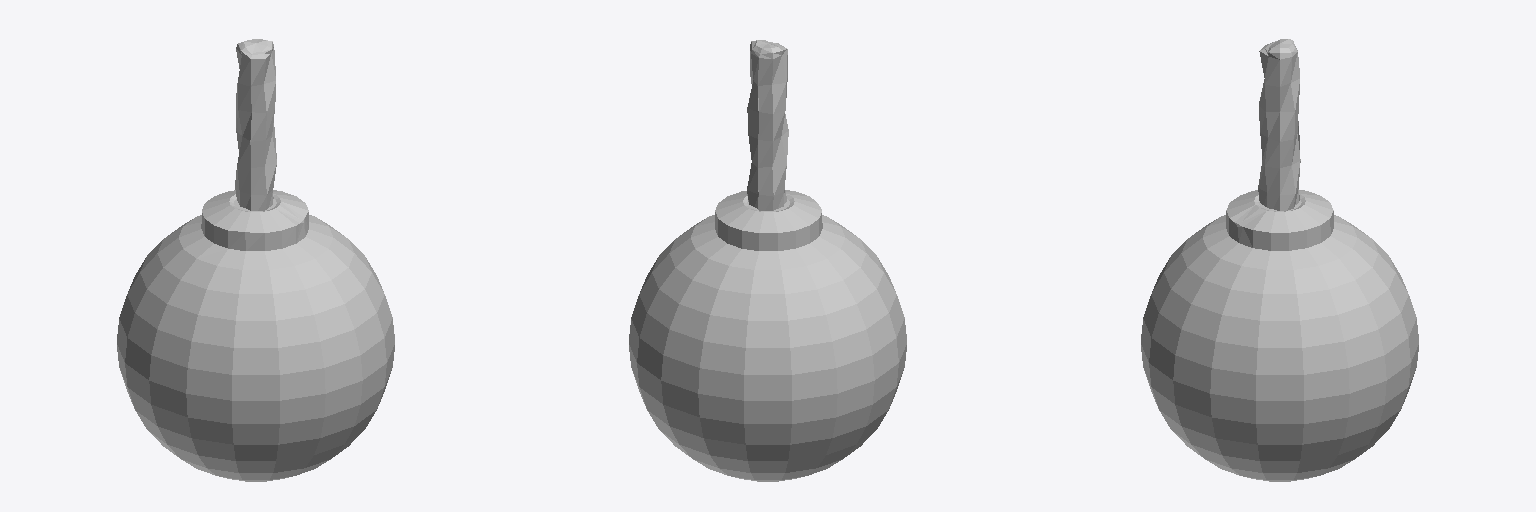
The model's file is Bom_GameRes2.obj.
3 views of the same model, side by side, from view 1: azimuth 30°, elevation 25°; view 2: azimuth 150°, elevation 25°; view 3: azimuth 270°, elevation 25° (orthographic).
Parts seen in each view (by area): view 1: Bom_GameRes2; view 2: Bom_GameRes2; view 3: Bom_GameRes2.
Part boxes in pixels (x1,y1,x2,y2): Bom_GameRes2: (117, 39, 394, 481); Bom_GameRes2: (629, 40, 906, 481); Bom_GameRes2: (1141, 39, 1418, 481).
Size of the model in its own units: 1.98 by 3.38 by 2.01.